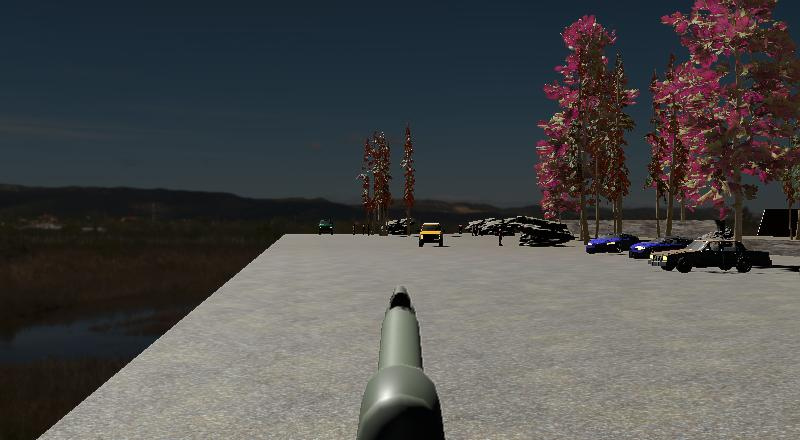car: (650, 237, 772, 275), (650, 236, 772, 274), (634, 235, 695, 261), (585, 231, 643, 255), (585, 231, 625, 255), (418, 221, 444, 248)
